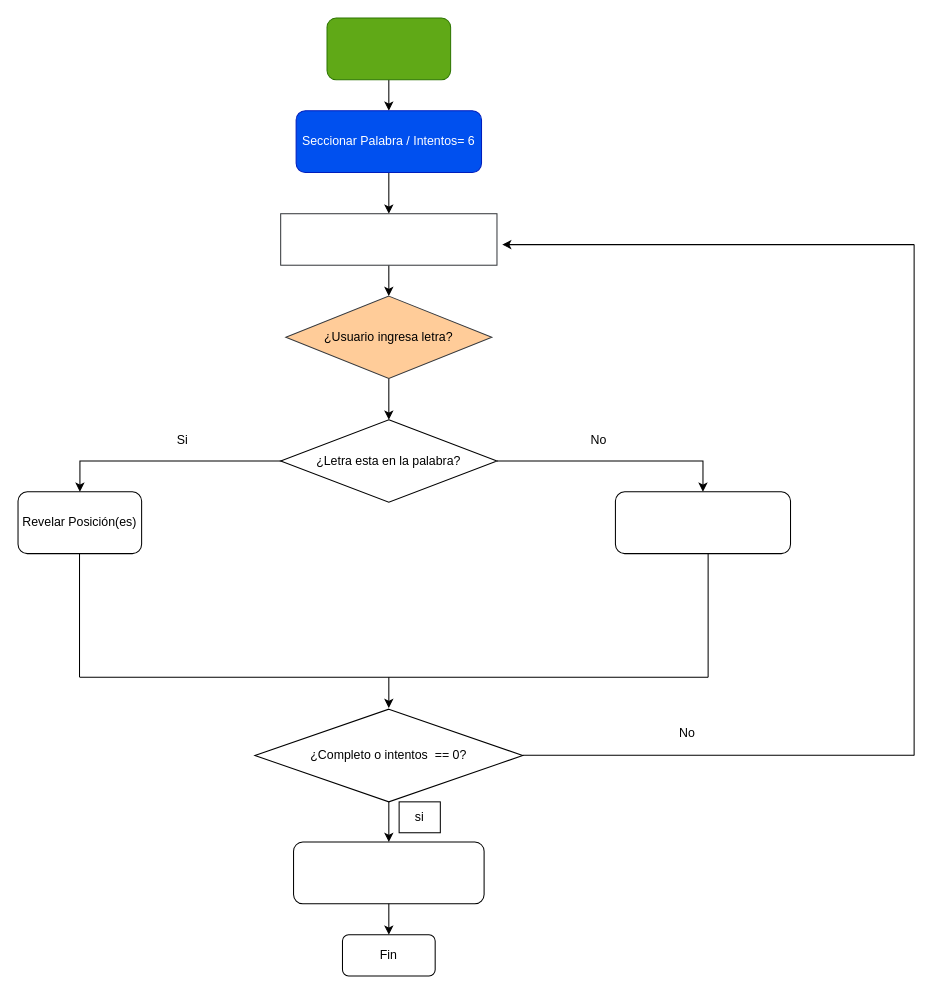
Some shapes in this 940 by 994 pixel diagram are drawn without their labels. Each missing label, with the centre of its shape:
Inicio: (388,48)
Intentos = Intentos -1: (702,522)
Mostrar Guiones y Ahorcado: (388,239)
Mostrar Victoria / Derrota: (388,872)
